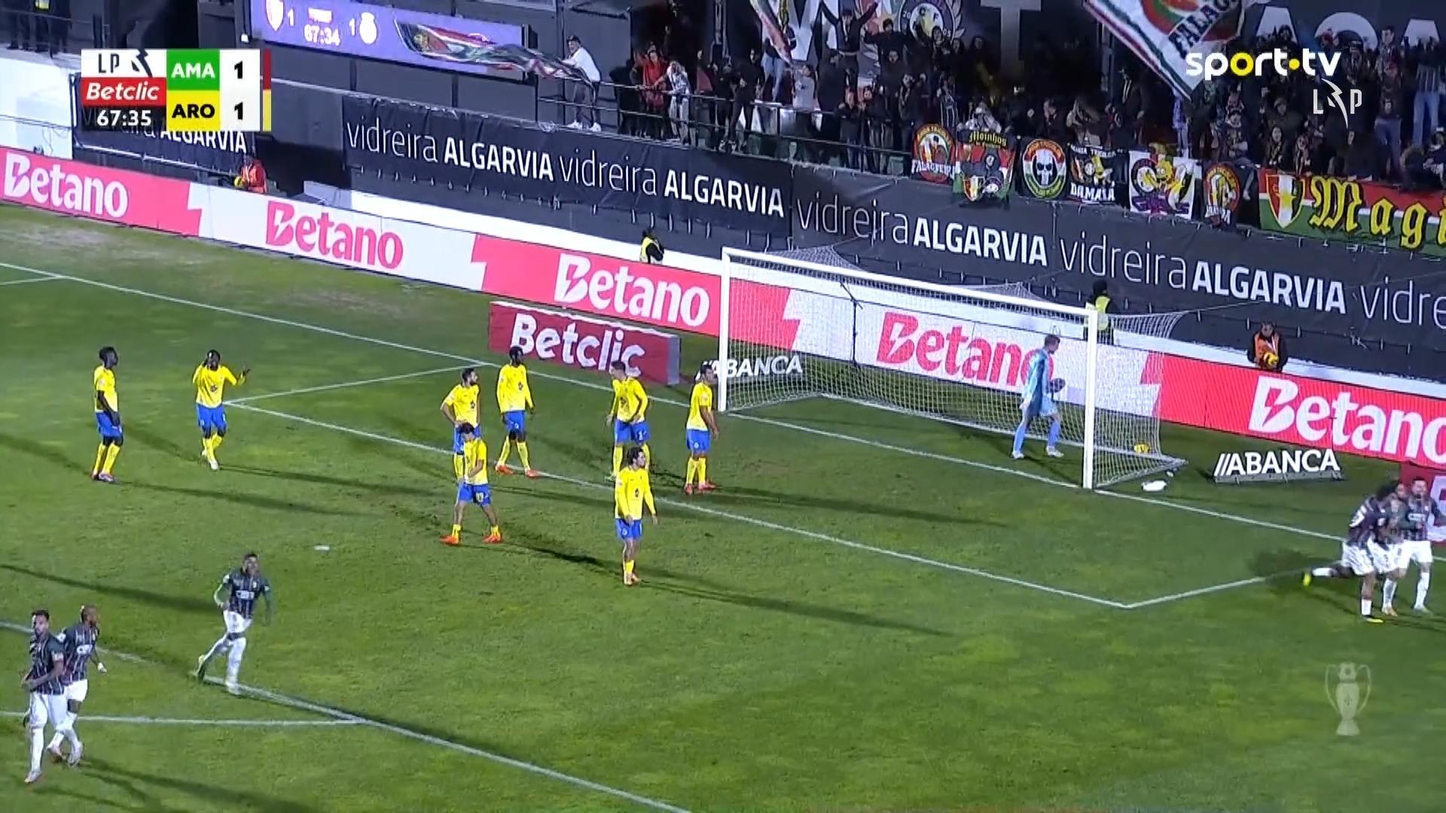ball: (1133, 442, 1149, 453)
goalkeeper: (1010, 333, 1066, 459)
player: (194, 551, 273, 696), (1301, 480, 1397, 587), (44, 603, 107, 766), (20, 608, 72, 784), (1380, 477, 1443, 617), (440, 421, 502, 545), (1344, 480, 1397, 623), (191, 348, 251, 470), (611, 446, 658, 586), (603, 359, 651, 483), (493, 345, 538, 477), (1368, 480, 1409, 617), (682, 361, 721, 495), (439, 366, 482, 485), (90, 345, 124, 483)
